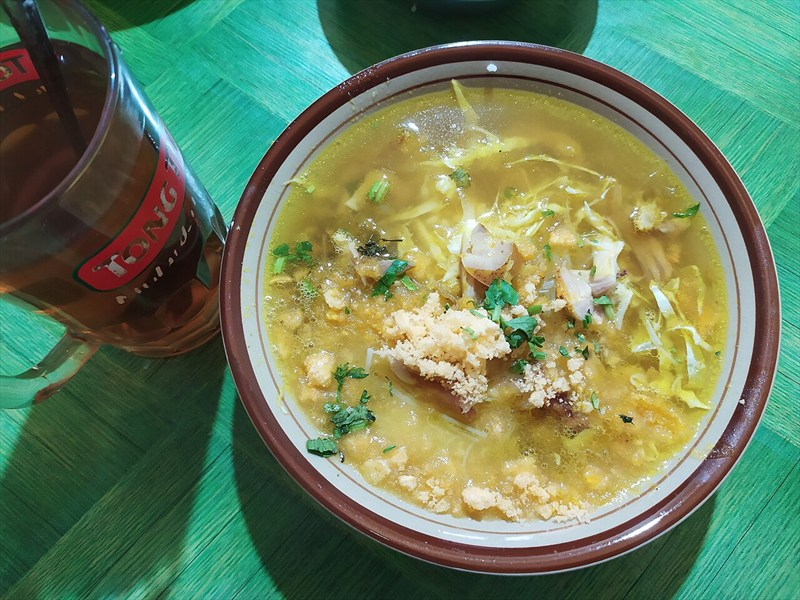Soto Ayam: (202, 79, 728, 541)
